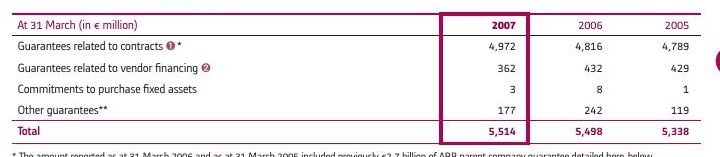table: (0, 0, 720, 157)
